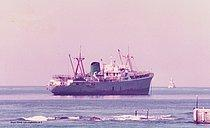Ship: (47, 42, 157, 99)
